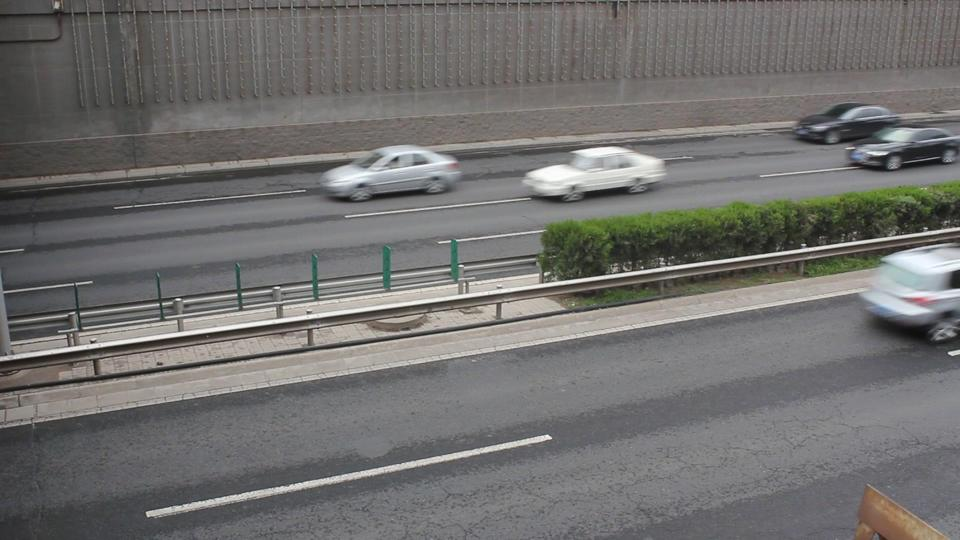car: (857, 241, 959, 345), (522, 147, 669, 201), (323, 147, 462, 200), (846, 125, 960, 170), (793, 103, 906, 144)
